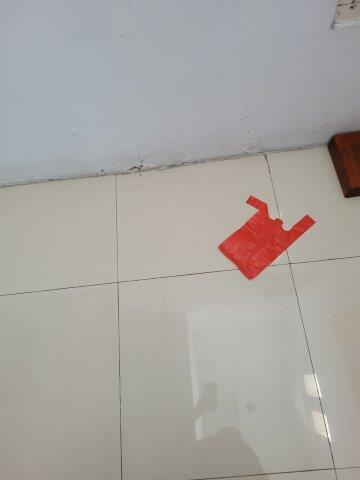plastik: (217, 196, 315, 281)
